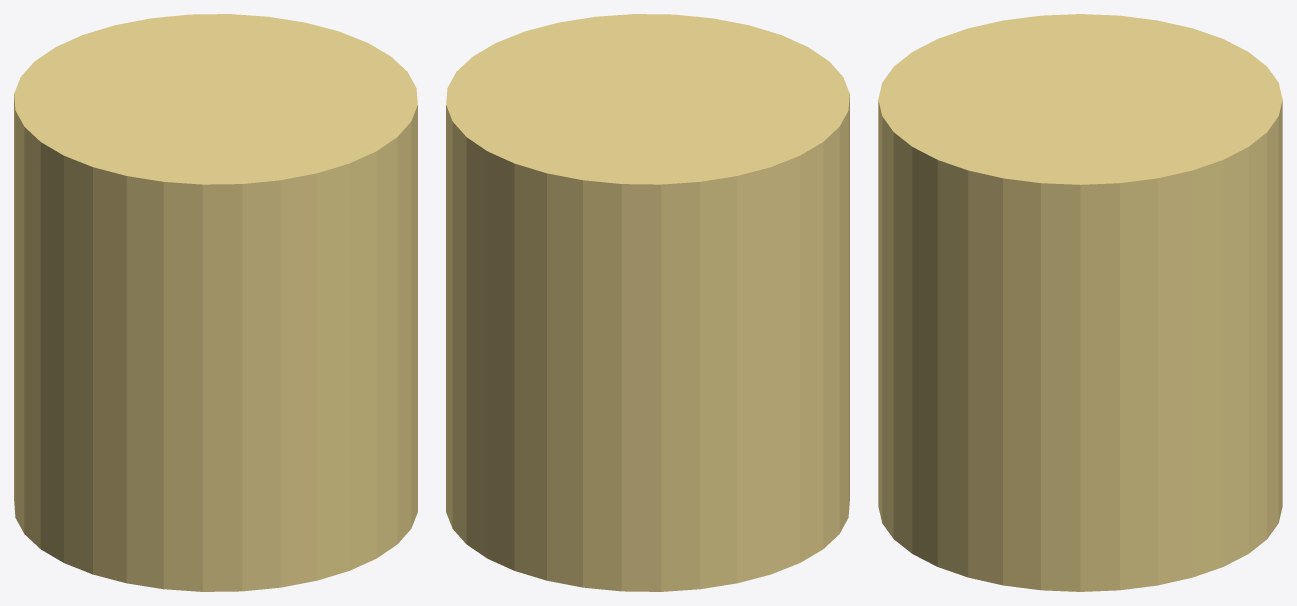
File: magical_lantern.glb
3 views of the same model, side by side, from view 1: azimuth 30°, elevation 25°; view 2: azimuth 150°, elevation 25°; view 3: azimuth 270°, elevation 25° (orthographic).
Parts seen in each view (by area): view 1: Cylinder; view 2: Cylinder; view 3: Cylinder.
Boxes of the visible parts, box(x1,y1,x2,y2) form: Cylinder: box(14, 14, 417, 591); Cylinder: box(446, 14, 849, 591); Cylinder: box(878, 14, 1282, 591).
Bounding box in the file's own units: 0.36 × 0.4 × 0.36.
